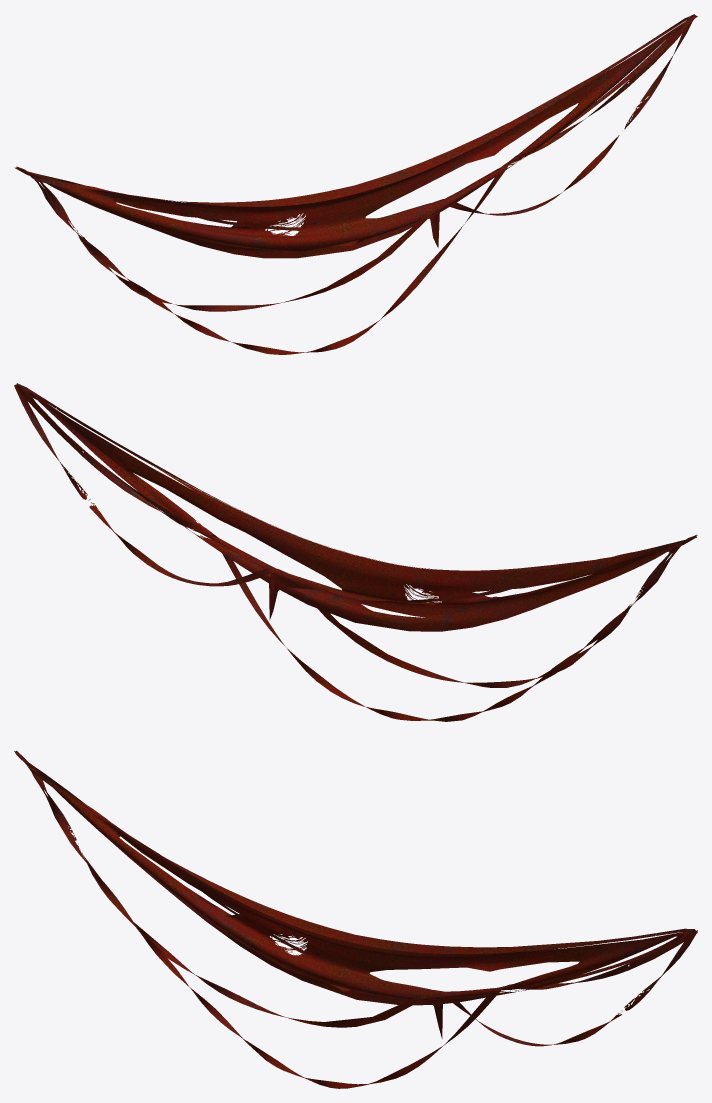
The model's file is P_Cloth06.fbx.
3 views of the same model, one above another, from view 1: azimuth 30°, elevation 25°; view 2: azimuth 150°, elevation 25°; view 3: azimuth 330°, elevation 25° (orthographic).
Visible parts, largest first — view 1: P_Cloth06; view 2: P_Cloth06; view 3: P_Cloth06.
Boxes of the visible parts, x1,y1,x2,y2 form: P_Cloth06: (14, 14, 697, 354); P_Cloth06: (14, 383, 697, 721); P_Cloth06: (14, 750, 697, 1088).
Size of the model in its own units: 4307 by 1559 by 135.
